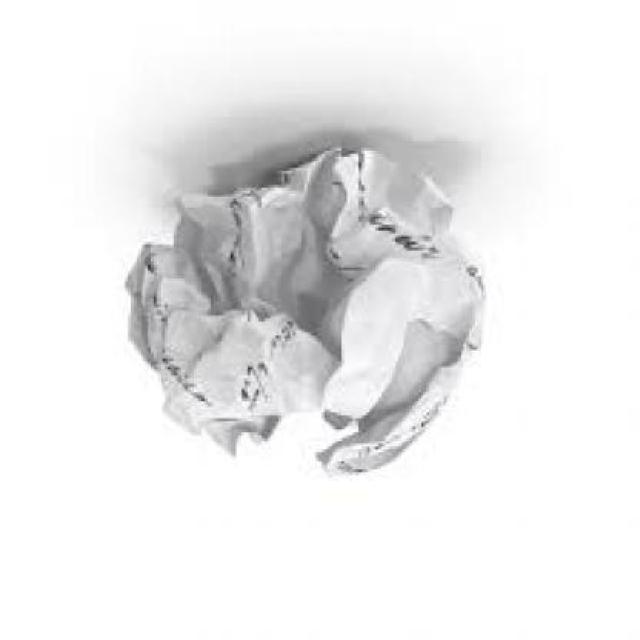PAPER: (126, 148, 492, 481)
